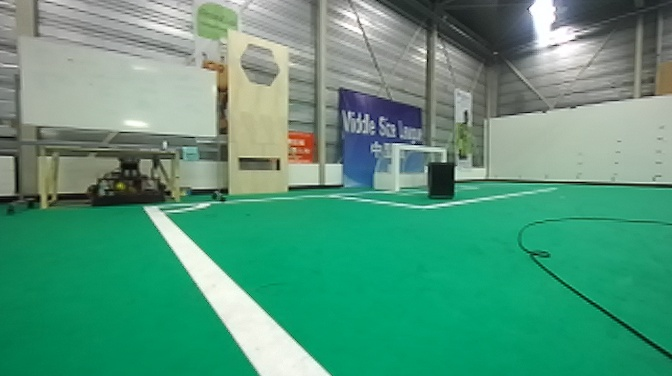goalpost: (389, 144, 406, 194), (437, 147, 447, 162)
